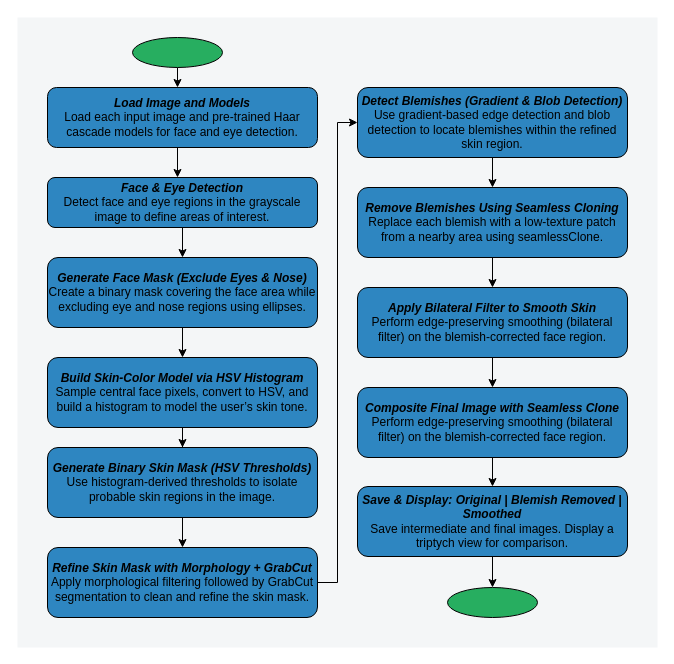
The diagram is 674 pixels wide and 664 high, and some of its shapes have lost their labels. Here are the shapes that lost their labels. From the top down, the box of each, then its label:
(132, 36, 222, 68): Start
(446, 586, 538, 618): Finish
